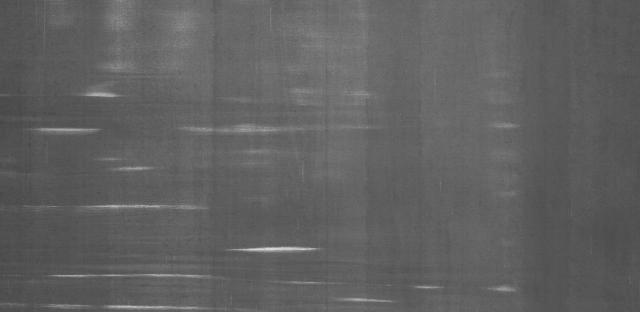waist_folding: (64, 55, 580, 310)
